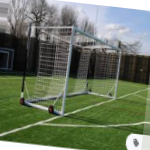goals: (26, 23, 123, 120)
